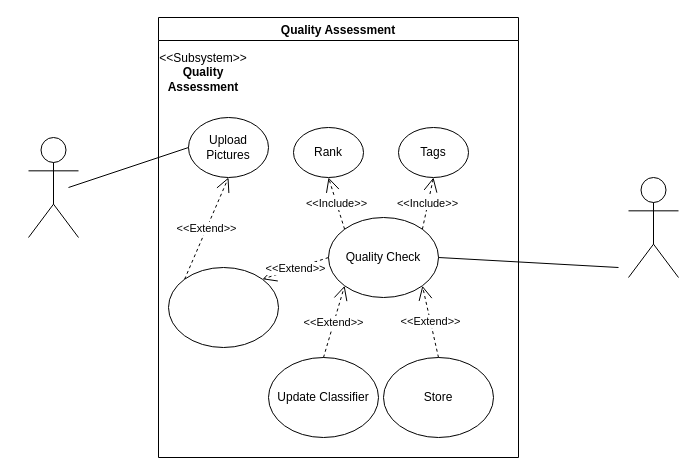
This 696x475 diagram has some shape labels left out. Here are the shapes that lost their labels. From the top down, the box of each, then its label:
(28, 136, 78, 238): Photographer
(628, 176, 678, 278): Editor
(168, 266, 278, 348): Classify
